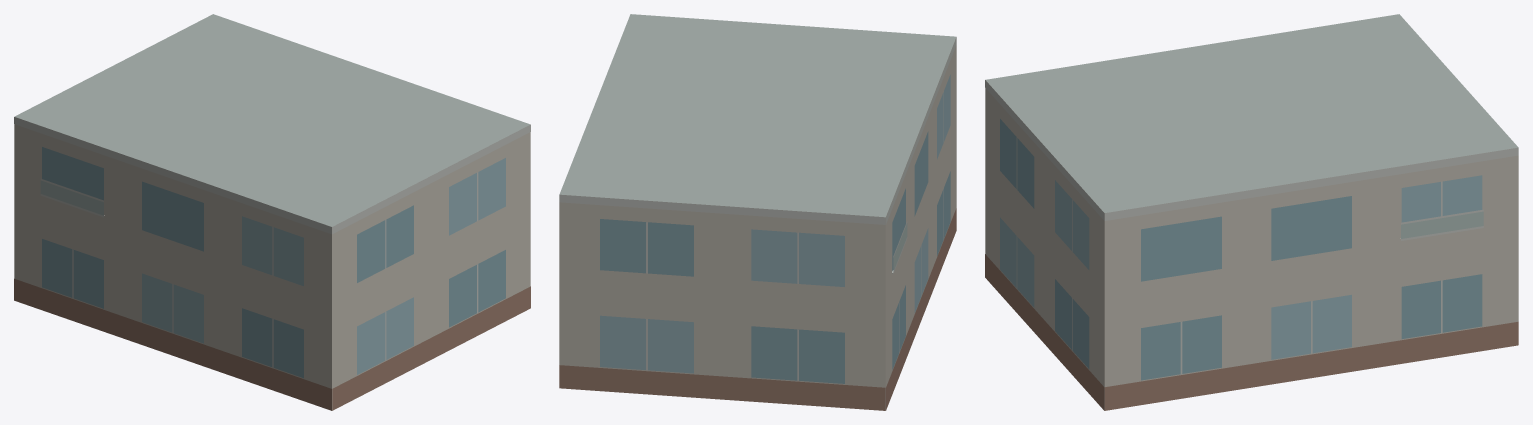
File: survey-upis-32823173.glb
3 renders of one model, left to right at view 1: azimuth 30°, elevation 25°; view 2: azimuth 150°, elevation 25°; view 3: azimuth 270°, elevation 25°, orthographic. The views are drawn at different scales.
Visible parts, largest first — view 1: survey-upis-32823173.tmp; view 2: survey-upis-32823173.tmp; view 3: survey-upis-32823173.tmp.
Part boxes in pixels (x1=…): survey-upis-32823173.tmp: x1=14, y1=14, x2=530, y2=410; survey-upis-32823173.tmp: x1=559, y1=14, x2=956, y2=410; survey-upis-32823173.tmp: x1=985, y1=14, x2=1518, y2=410.
Size of the model in its own units: 13.19 by 6.1 by 14.93.
